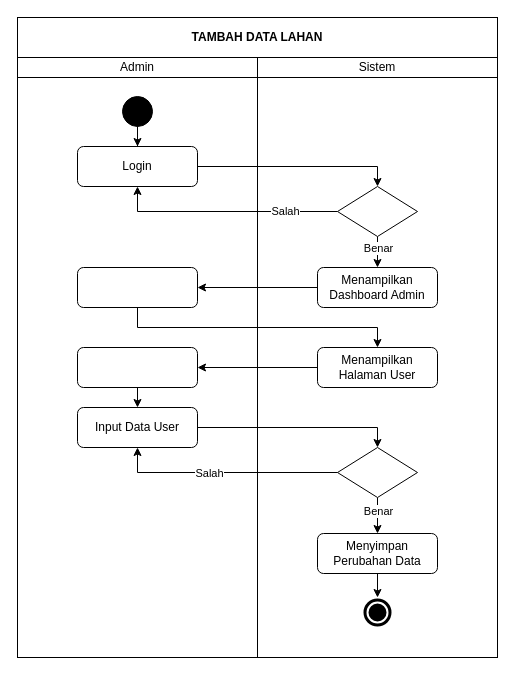
This 515x675 diagram has some shape labels left out. Here are the shapes that lost their labels. From the top down, the centre of each, then its label:
[377,211]: Verifikasi
[137,287]: Memilih Menu Kelola User
[137,367]: Menekan tombol Tambah User
[377,472]: Validasi
